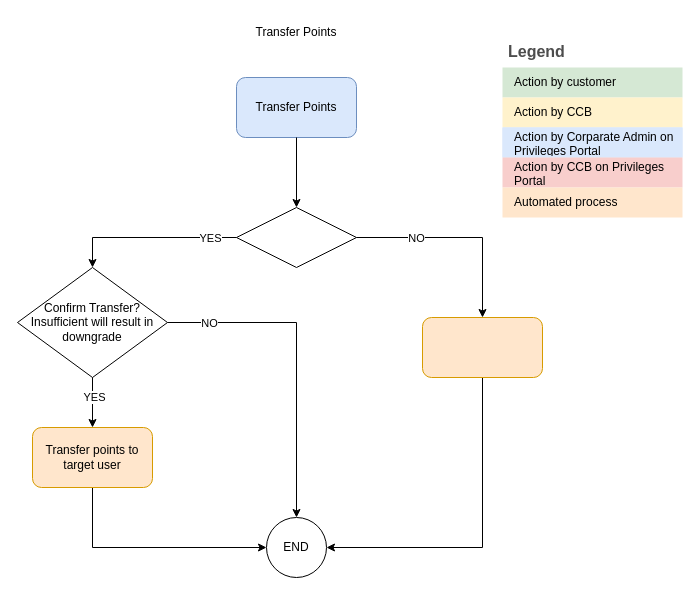
Image size: 700x595. Some labels were removed from this diagram. Each missing label, with the centre of its shape:
"Points sufficient?" goes at point 296,237.
"Prompt transaction error" goes at point 482,347.
